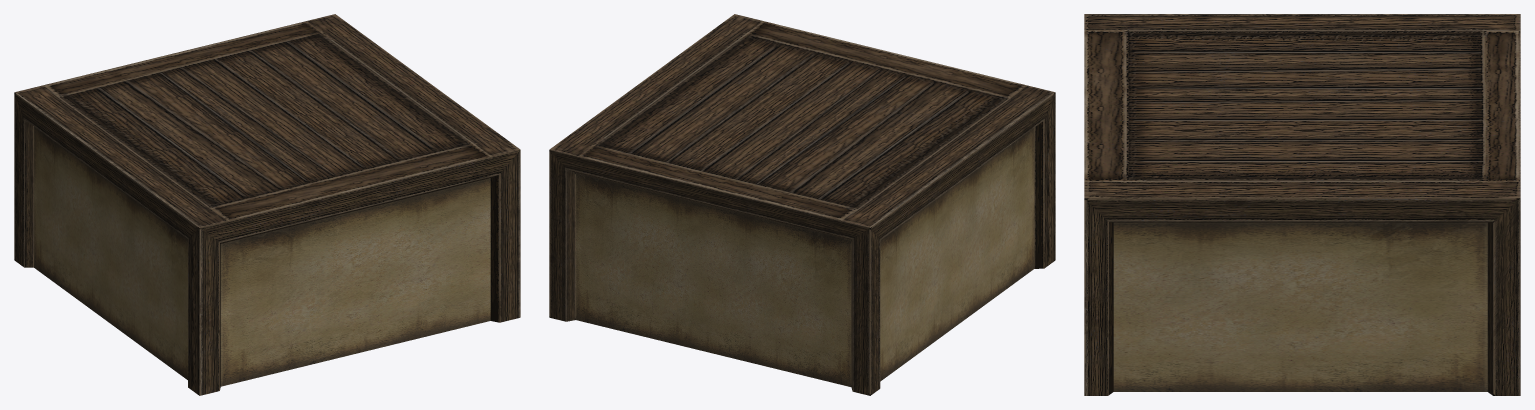
Rendered from House_6X6_03a.fbx.
3 views of the same model, side by side, from view 1: azimuth 30°, elevation 25°; view 2: azimuth 150°, elevation 25°; view 3: azimuth 270°, elevation 25° (orthographic). The views are drawn at different scales.
Parts seen in each view (by area): view 1: House_6X6_03a; view 2: House_6X6_03a; view 3: House_6X6_03a.
Part boxes in pixels (left/top/right/bottom): House_6X6_03a: left=14, top=14, right=520, bottom=395; House_6X6_03a: left=549, top=14, right=1055, bottom=395; House_6X6_03a: left=1084, top=14, right=1520, bottom=395.
Bounding box in the file's own units: 6 × 3 × 6.
